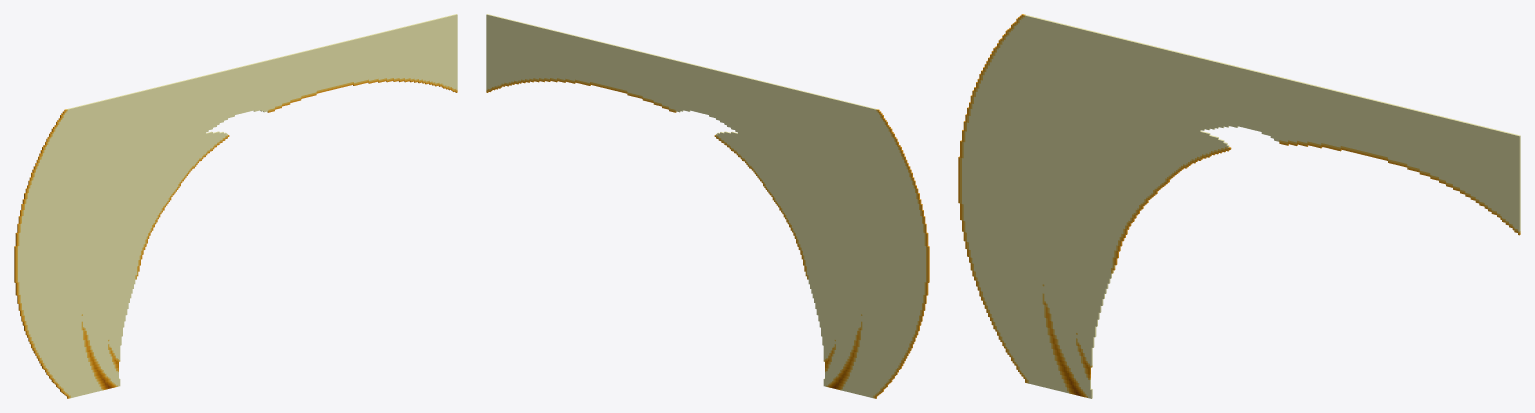
The model's file is Fight_203_2_08_fx.obj.
3 views of the same model, side by side, from view 1: azimuth 30°, elevation 25°; view 2: azimuth 150°, elevation 25°; view 3: azimuth 330°, elevation 25° (orthographic). The views are drawn at different scales.
Bounding box in the file's own units: 32 × 20 × 0.1.
1 material, 1 textured.
